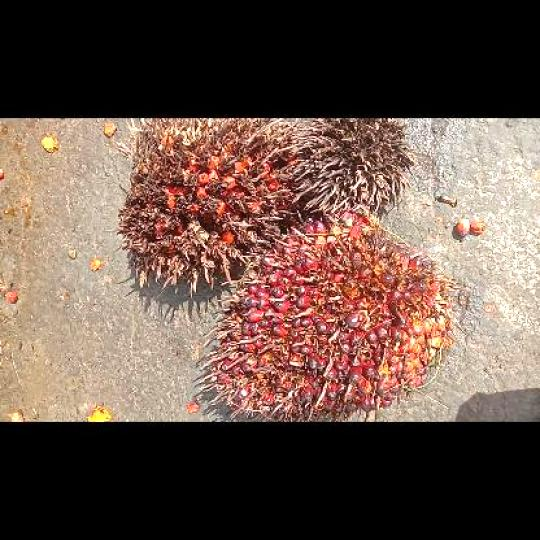masak: (199, 211, 466, 420)
terlalu masak: (113, 118, 297, 295)
